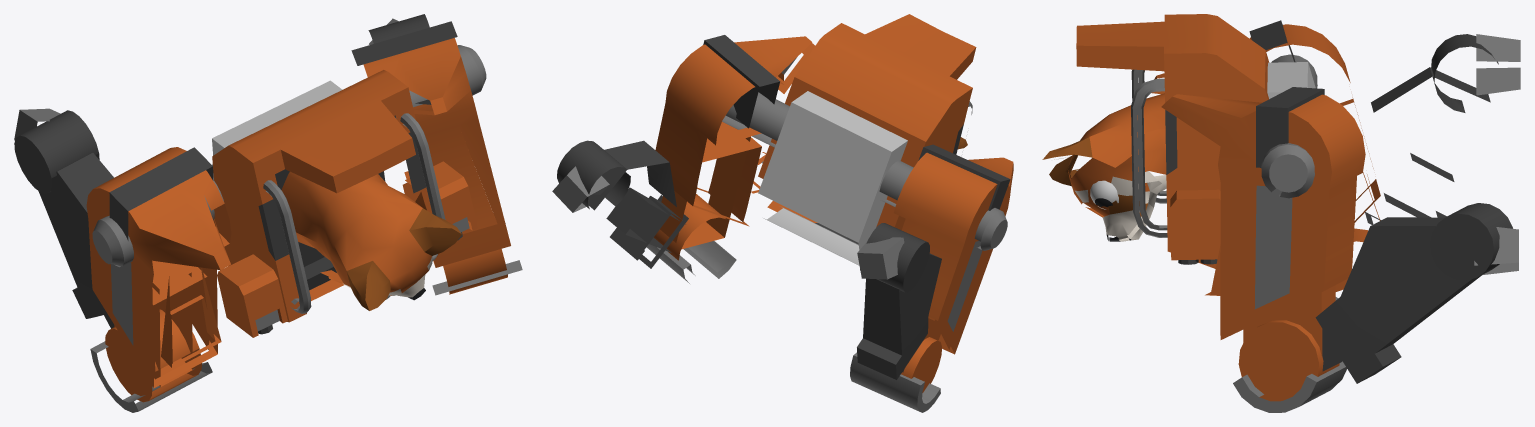
File: mech-a.glb
3 views of the same model, side by side, from view 1: azimuth 30°, elevation 25°; view 2: azimuth 150°, elevation 25°; view 3: azimuth 270°, elevation 25° (orthographic). The views are drawn at different scales.
Parts seen in each view (by area): view 1: RaeTheRedPanda; view 2: RaeTheRedPanda; view 3: RaeTheRedPanda.
Part boxes in pixels (x1,y1,x2,y2): RaeTheRedPanda: [14, 14, 522, 412]; RaeTheRedPanda: [552, 14, 1013, 412]; RaeTheRedPanda: [1042, 14, 1520, 412].
Bounding box in the file's own units: 1 × 0.7641 × 0.9231.
1 material, 1 textured.
